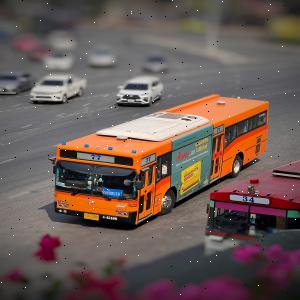BMTA-bus: (51, 95, 270, 226)
Bus Line Number: (87, 152, 103, 162), (142, 155, 155, 165)
Bus Side Number: (102, 214, 118, 222)
Destination Sign: (99, 187, 124, 199)
